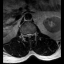CCS_normal: (28, 30, 30, 39)
LFS_normal: (32, 31, 34, 38)
LLS_normal: (30, 31, 32, 38)
RFS_normal: (24, 31, 26, 38)
RLS_normal: (26, 31, 28, 38)
